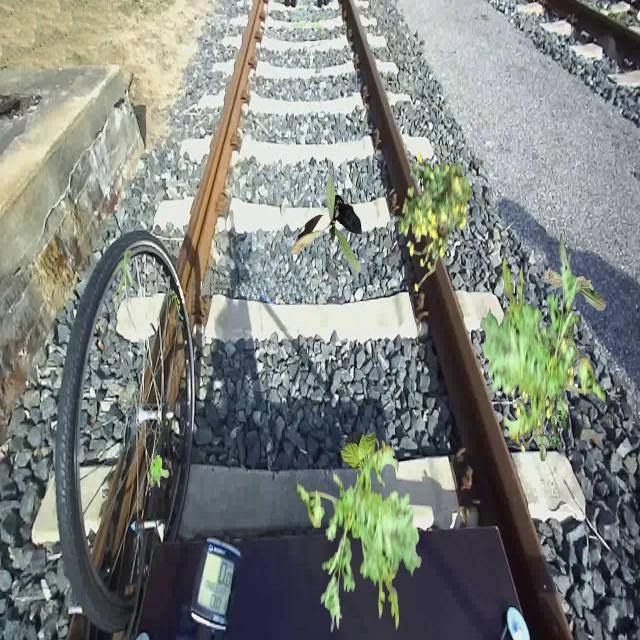Plant: (297, 437, 422, 633), (480, 253, 605, 449), (505, 314, 580, 454), (399, 152, 474, 292), (290, 174, 362, 274), (543, 233, 607, 345), (340, 431, 376, 514), (531, 388, 568, 462), (111, 249, 138, 306), (149, 455, 170, 488)
